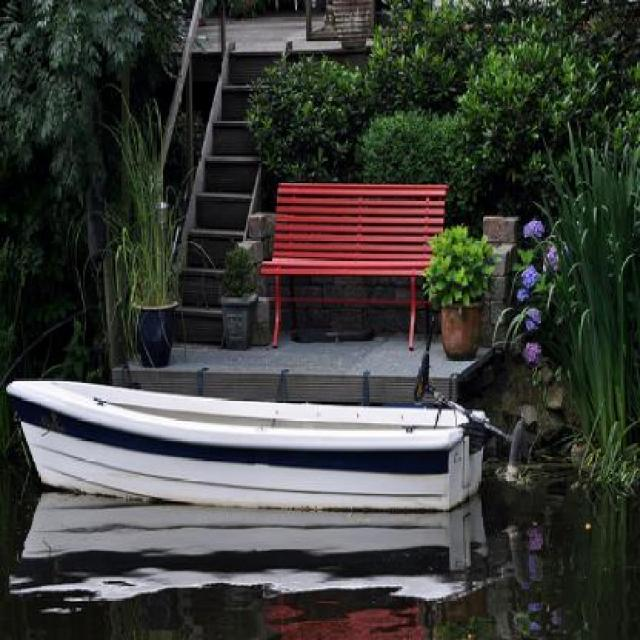ship: (5, 295, 543, 577)
